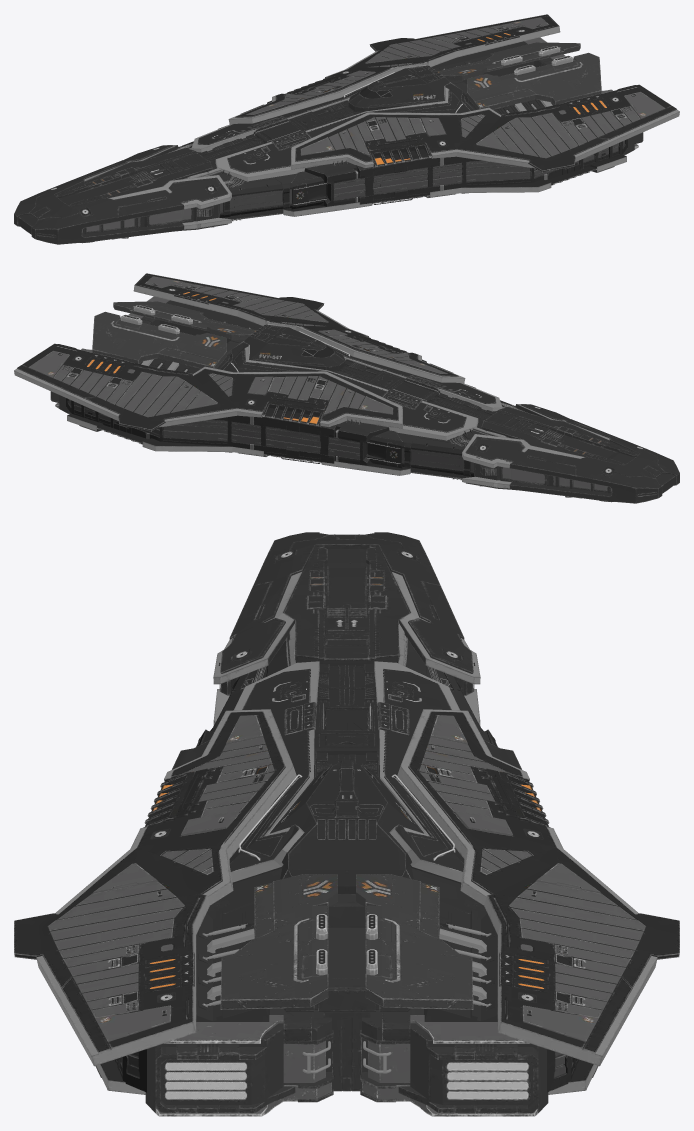
Rendered from federal-corvette.glb.
3 renders of one model, top to bottom at view 1: azimuth 30°, elevation 25°; view 2: azimuth 150°, elevation 25°; view 3: azimuth 270°, elevation 25°, orthographic. The views are drawn at different scales.
Parts seen in each view (by area): view 1: root; view 2: root; view 3: root.
Part boxes in pixels (box(x1,y1,x2,y2)): root: box(14, 14, 679, 244); root: box(14, 273, 679, 503); root: box(14, 532, 679, 1116).
Size of the model in its own units: 145 by 23.56 by 73.79.
Materials: 6 (6 with a texture image).
